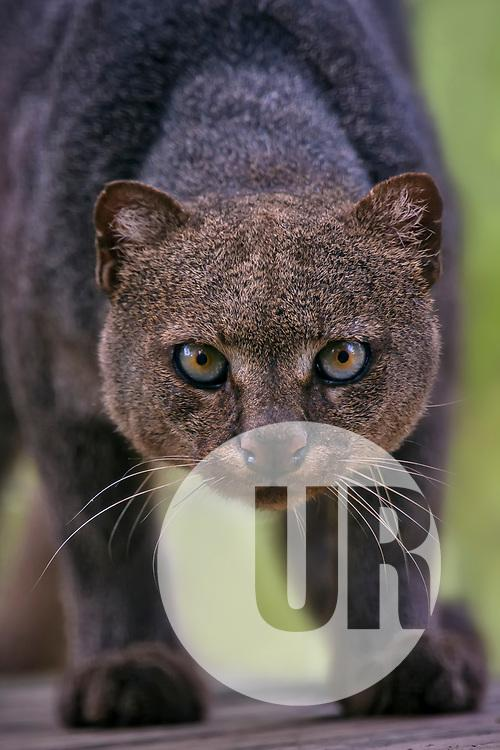Jaguarundi: (43, 13, 487, 523)
